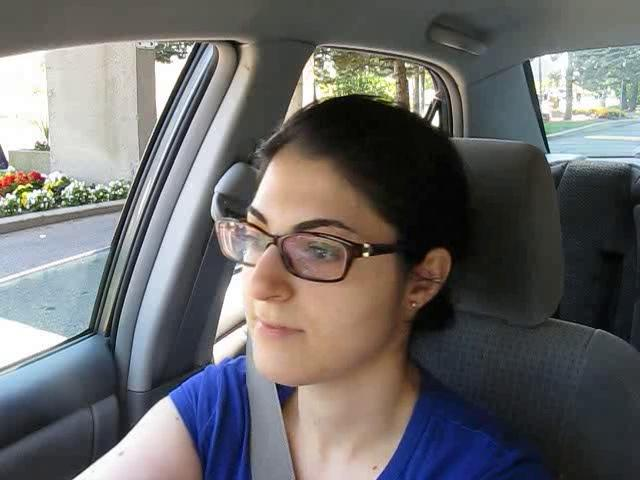no_yawn: (237, 309, 311, 351)
open_eyeL: (229, 221, 274, 266)
open_eyeR: (288, 229, 359, 277)
